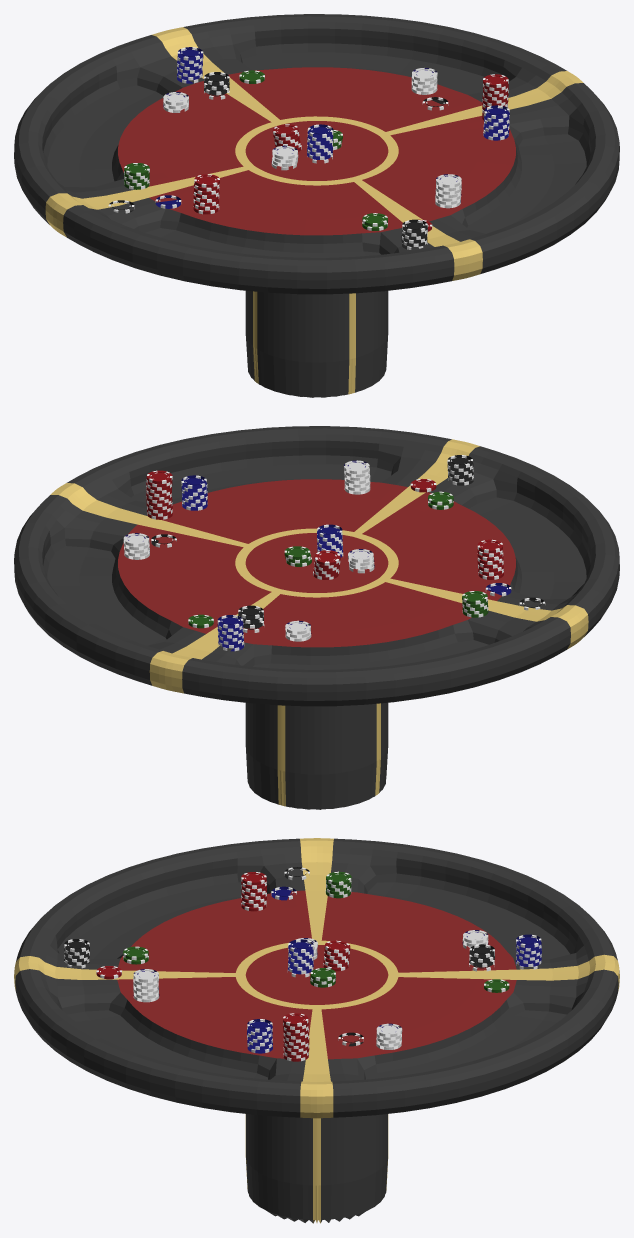
File: pockertable.glb
3 views of the same model, one above another, from view 1: azimuth 30°, elevation 25°; view 2: azimuth 150°, elevation 25°; view 3: azimuth 270°, elevation 25° (orthographic).
Visible parts, largest first — view 1: chips.017; view 2: chips.017; view 3: chips.017.
Boxes of the visible parts, box(x1,y1,x2,y2) form: chips.017: box(14, 14, 619, 397); chips.017: box(14, 426, 619, 809); chips.017: box(14, 838, 619, 1223).
Size of the model in its own units: 54.57 by 26.04 by 54.57.
